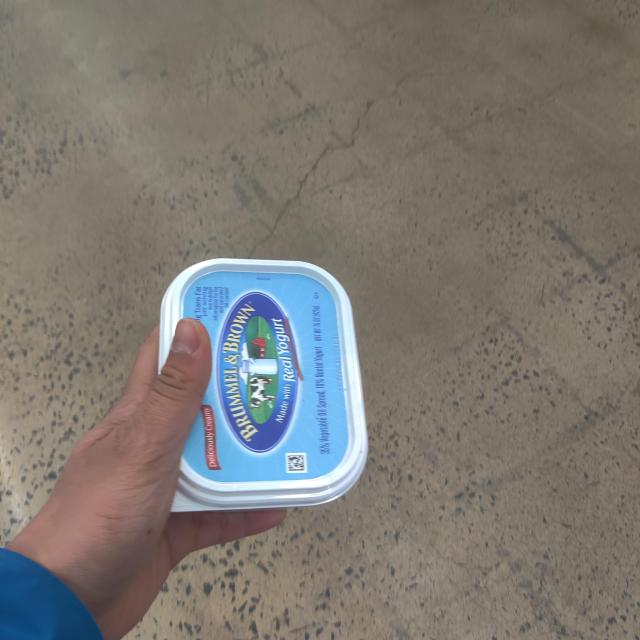Butter: (114, 256, 385, 530)
